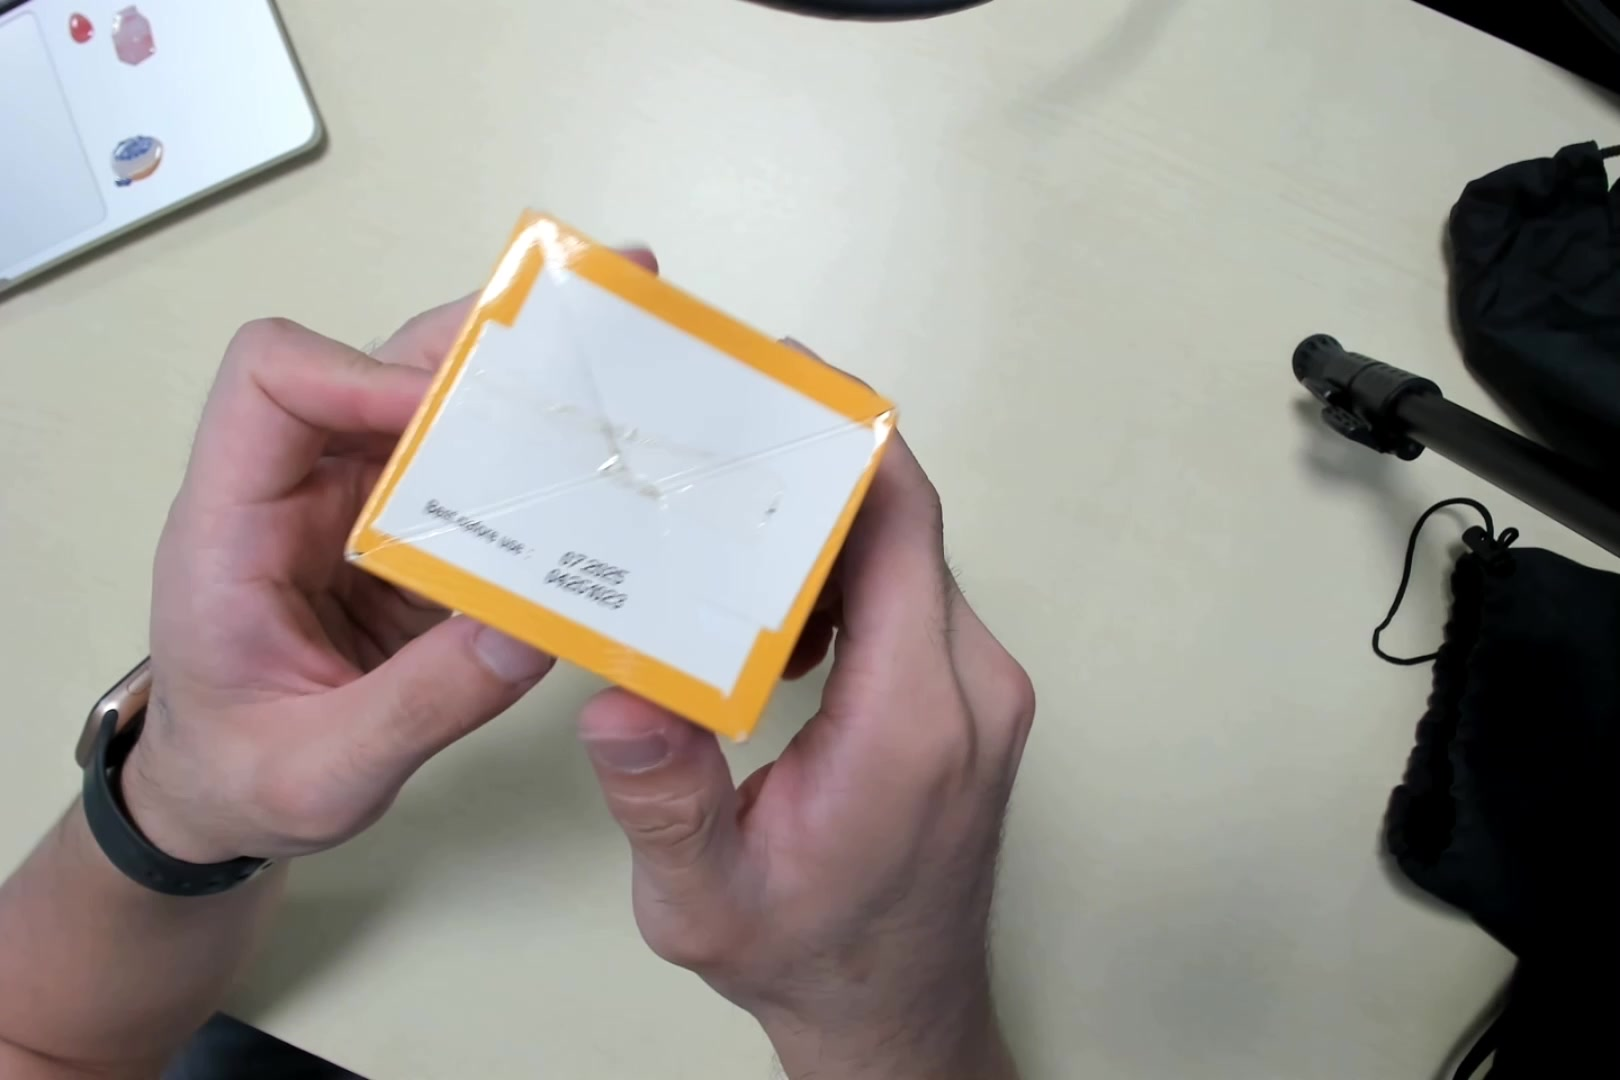OtherHotBeverages(Powder)_0-99g_Halal_NonHealthy: (353, 202, 900, 728)
